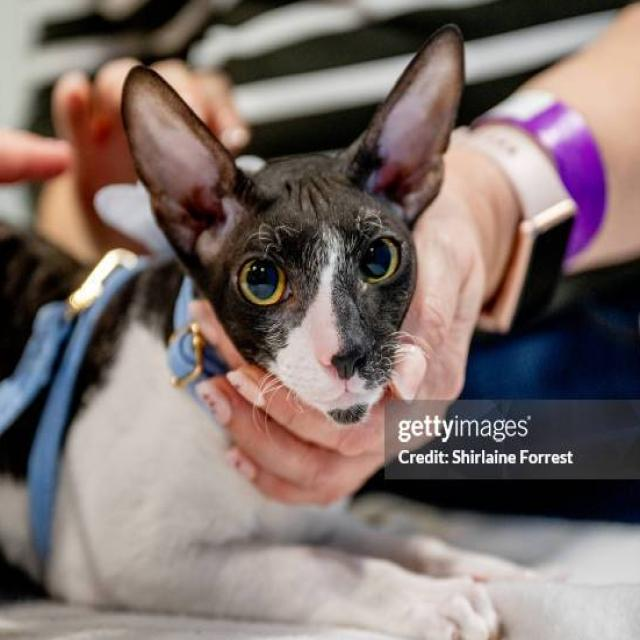Cornish Rex: (0, 17, 506, 639)
